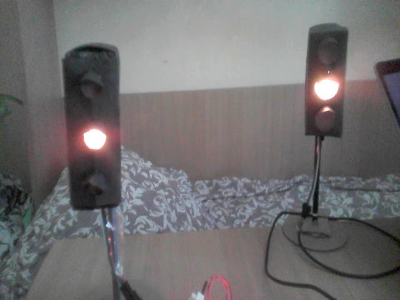trafficlight_red: (64, 51, 121, 206), (310, 29, 343, 137)
